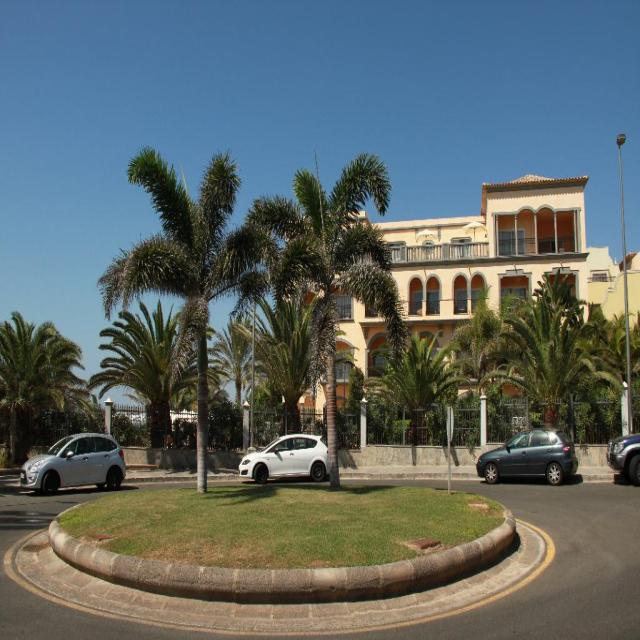car: (20, 435, 128, 496), (474, 428, 578, 487)
